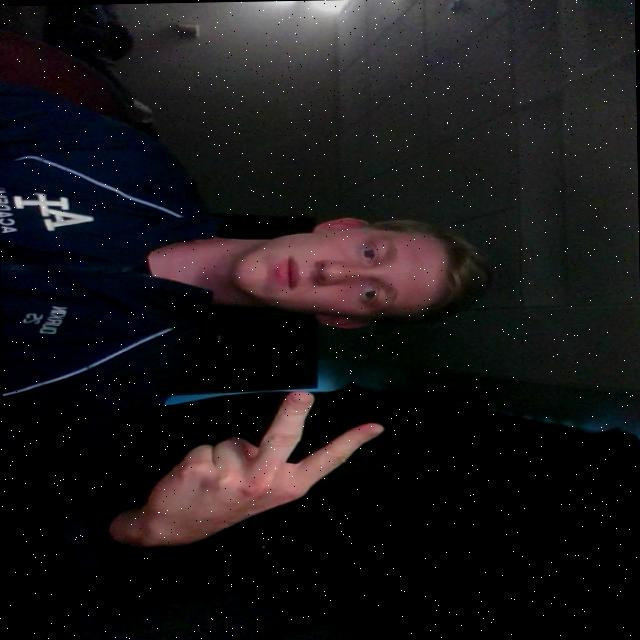scissors: (98, 385, 391, 556)
